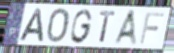A: (112, 9, 138, 48), (18, 7, 44, 42)
F: (138, 11, 166, 46)
G: (70, 8, 94, 45)
O: (46, 7, 71, 44)
T: (98, 9, 117, 44)
